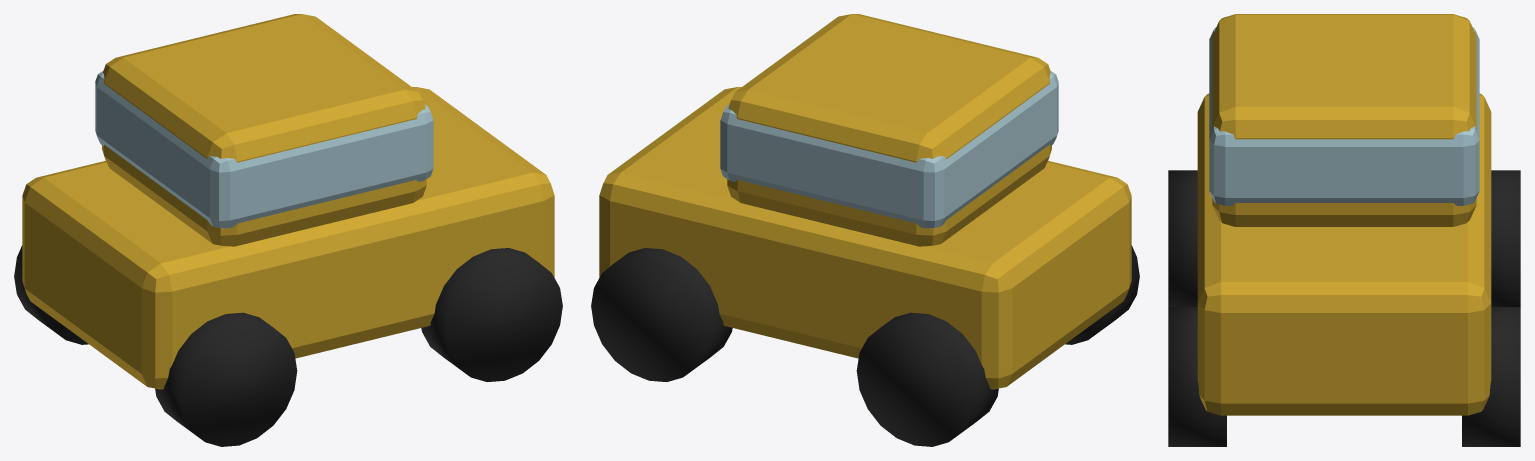
Rendered from car_mini_y.glb.
The picture shows the model from 3 angles, left to right: view 1: azimuth 30°, elevation 25°; view 2: azimuth 150°, elevation 25°; view 3: azimuth 270°, elevation 25°; orthographic projection. The views are drawn at different scales.
Parts seen in each view (by area): view 1: car_mini_y; view 2: car_mini_y; view 3: car_mini_y.
Boxes of the visible parts, x1,y1,x2,y2 form: car_mini_y: (14,14,562,446); car_mini_y: (591,14,1139,446); car_mini_y: (1168,14,1520,446).
Size of the model in its own units: 0.17 by 0.1125 by 0.12.
